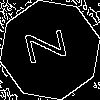Z: (25, 25, 76, 65)
